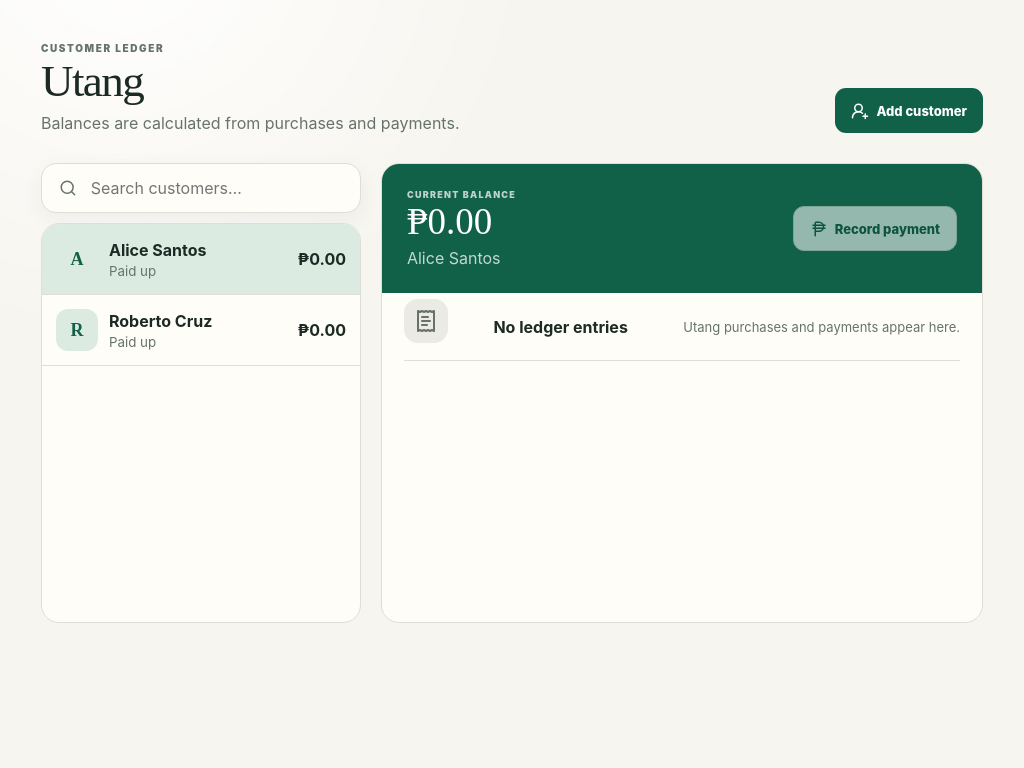
Test: Utang search and app modal improvements › filters customers by name, nickname, and phone without replacing the selected ledger
Step 1. Type "bObBy" into the field with placeholder "Search customers…" → coordinates (216, 188), box [89,177,343,199]
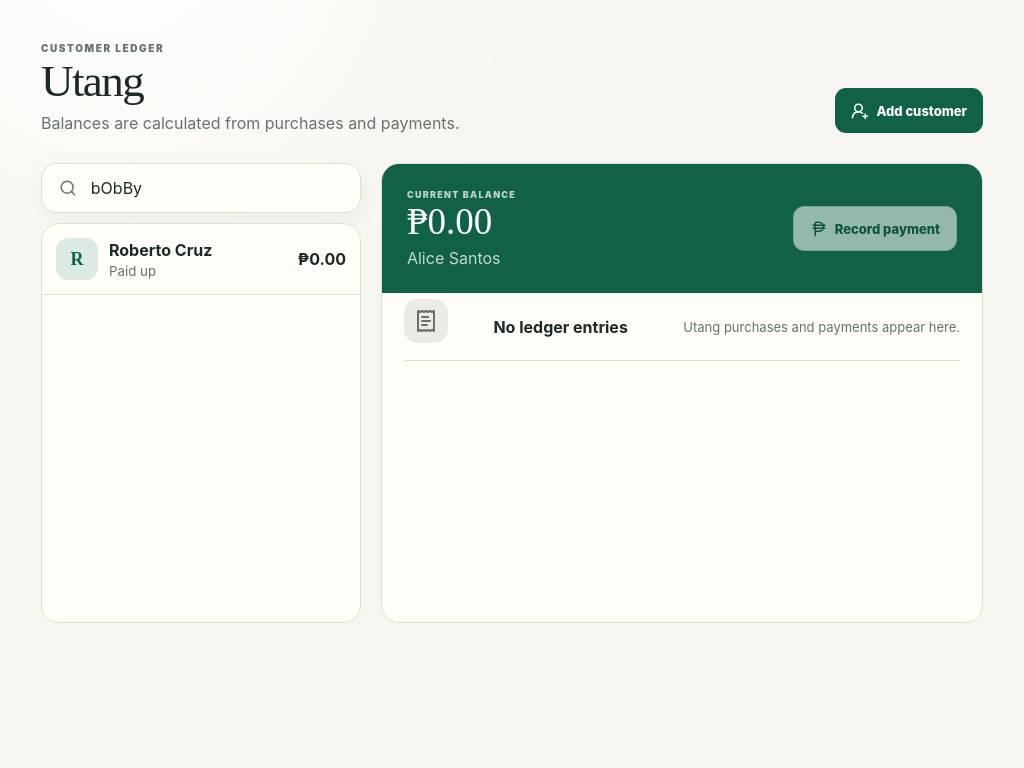
Expected: the button "R Roberto Cruz Paid up ₱0.00" is shown, [42,224,360,295]
Expected: the text "Alice Santos" is shown, [407,248,516,268]
Step 2. Replace the text in the field with placeholder "Search customers…" with "0999" → coordinates (216, 188), box [89,177,343,199]
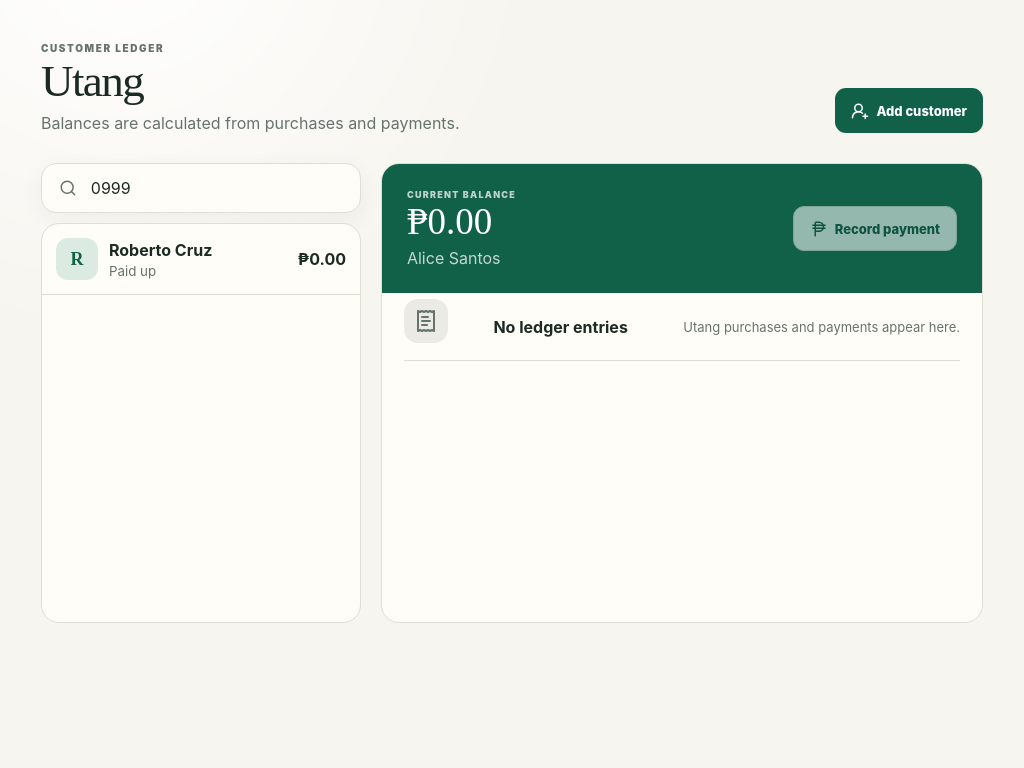
Step 3. Click the button "R Roberto Cruz Paid up ₱0.00" → coordinates (201, 260), box [42,224,360,295]
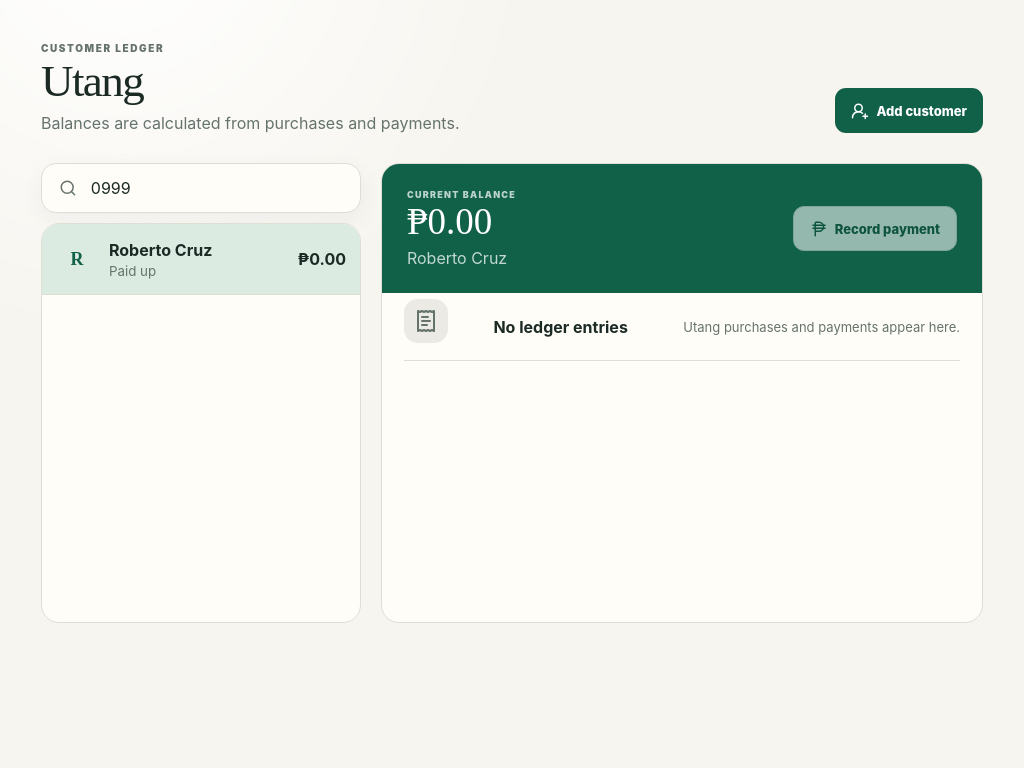
Result: the text "Roberto Cruz" is shown 2 times at [109,240,212,260]; [407,248,516,268]
Step 4. Replace the text in the field with placeholder "Search customers…" with "missing" → coordinates (216, 188), box [89,177,343,199]
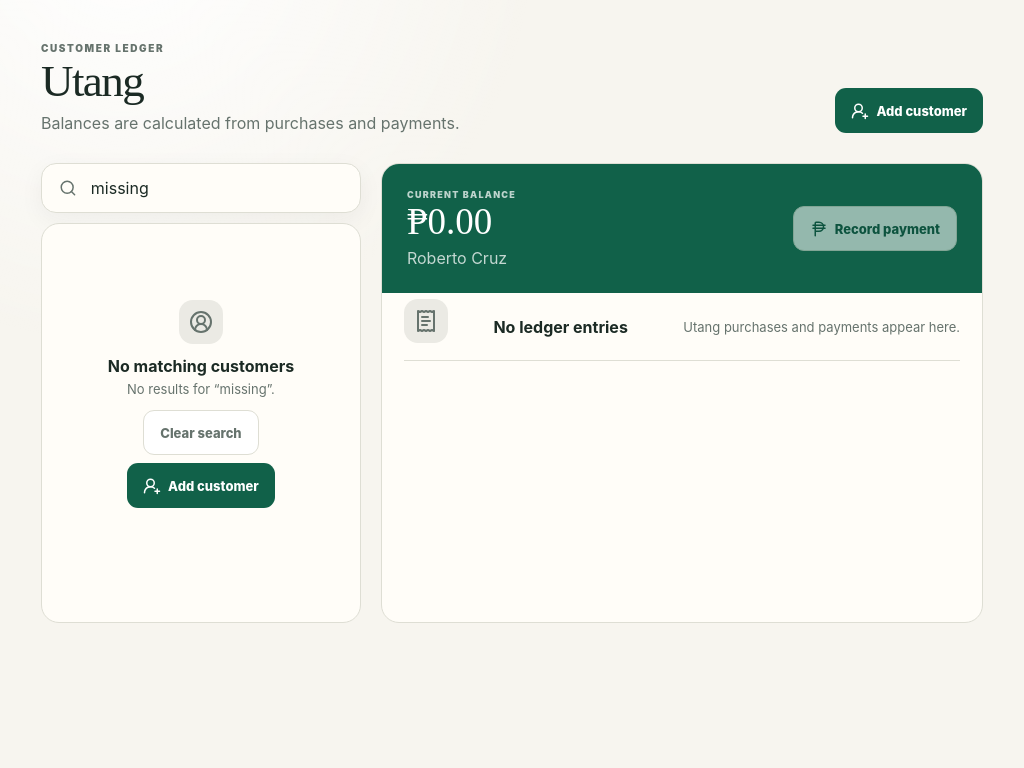
Result: the text "No matching customers" is shown at [108,356,294,376]
Step 5. Click the button "Clear search" → coordinates (201, 433), box [143,410,259,455]
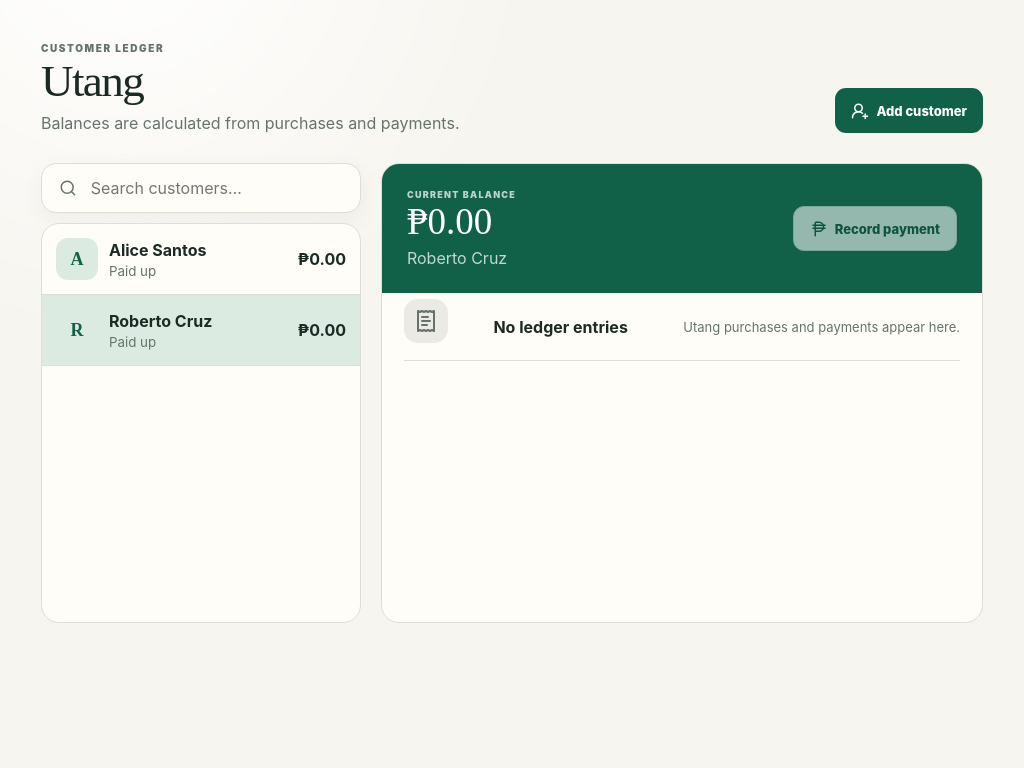
Result: the field with placeholder "Search customers…" is empty at [89,177,343,199]
